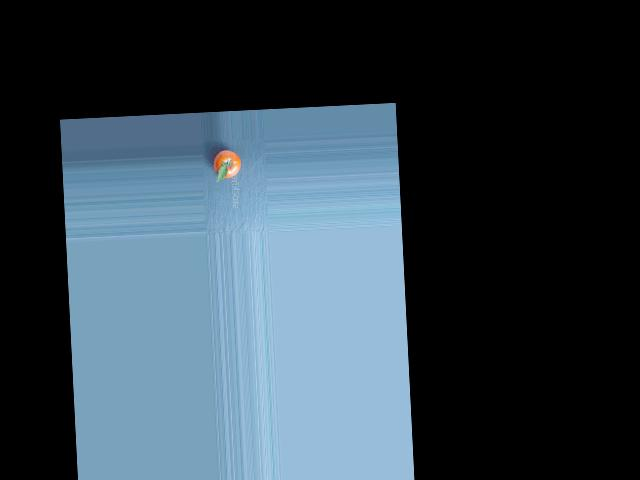tomato: (213, 149, 241, 178)
